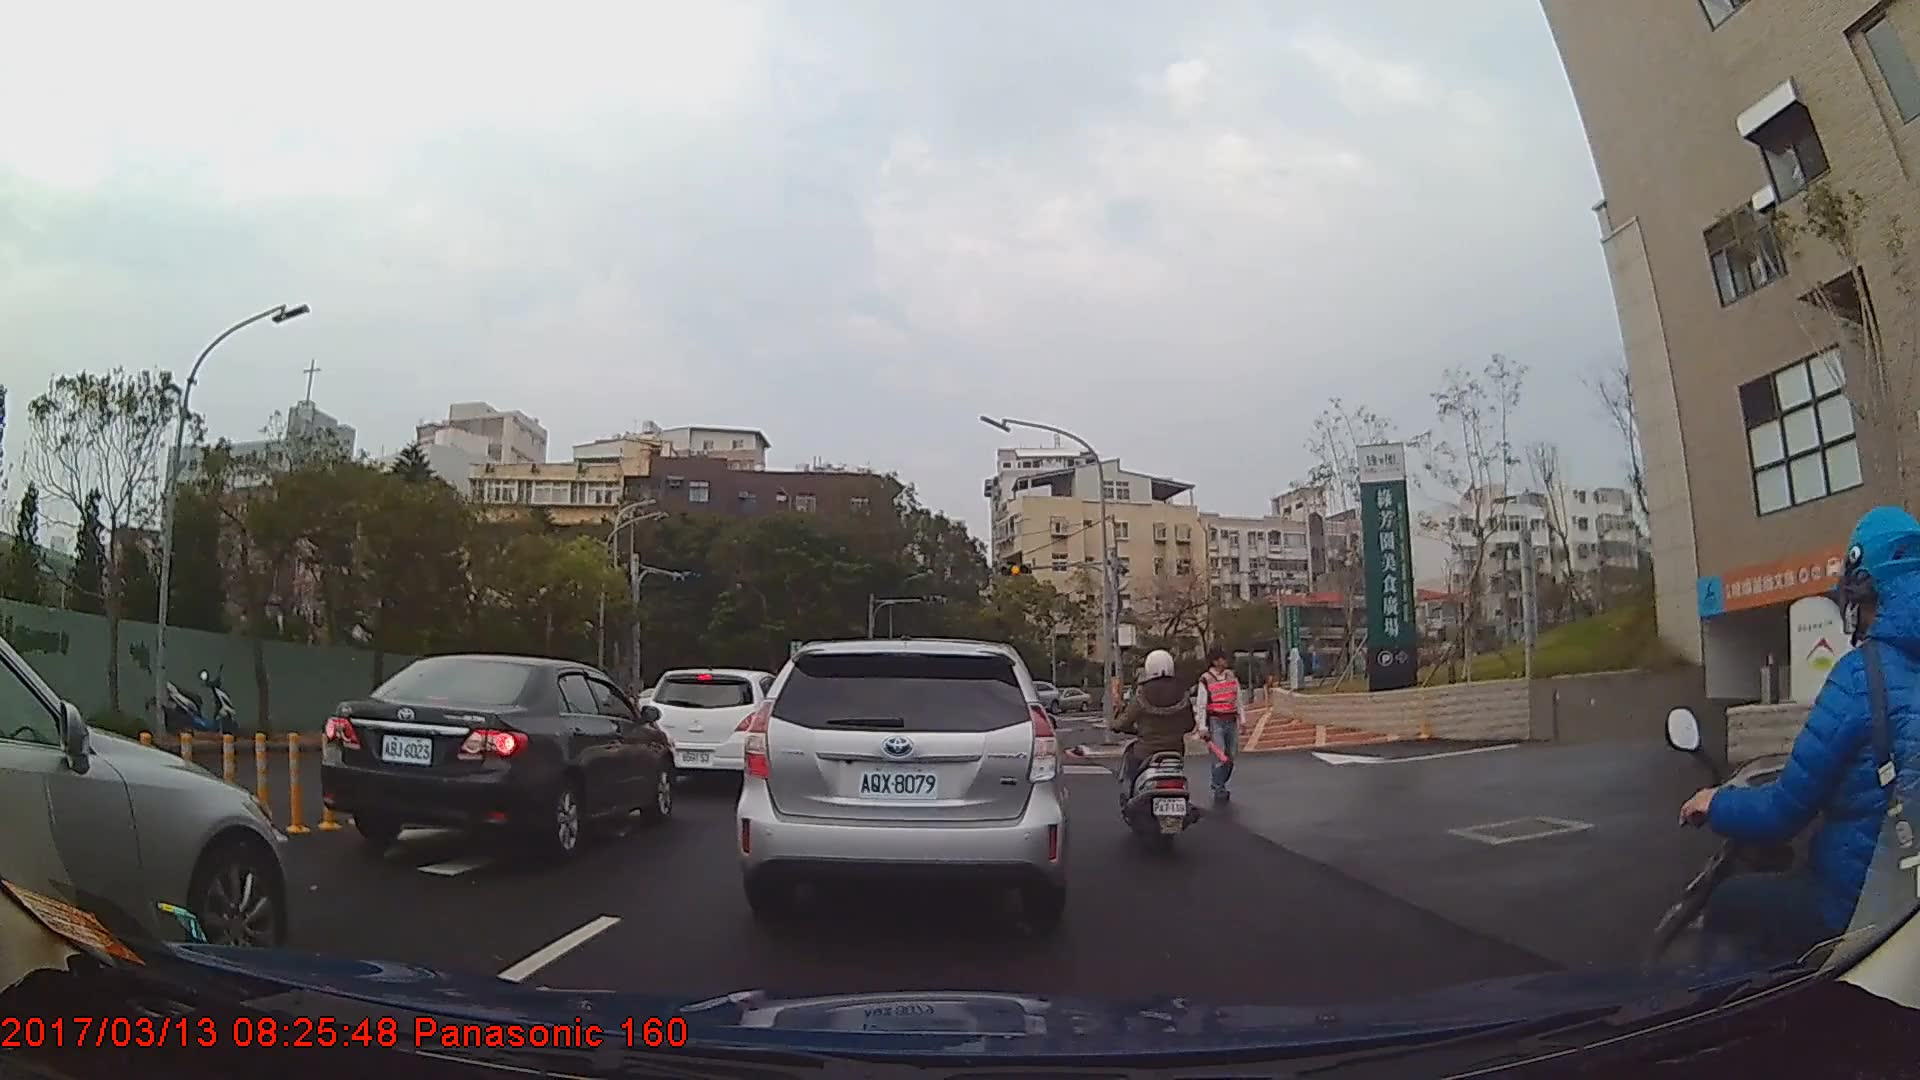pedestrian: (1195, 647, 1249, 801)
rider: (1637, 504, 1920, 1080), (1117, 648, 1200, 856)
vehicle: (734, 635, 1068, 927), (0, 632, 288, 969), (318, 653, 676, 857), (643, 667, 788, 790), (1053, 682, 1093, 711)
